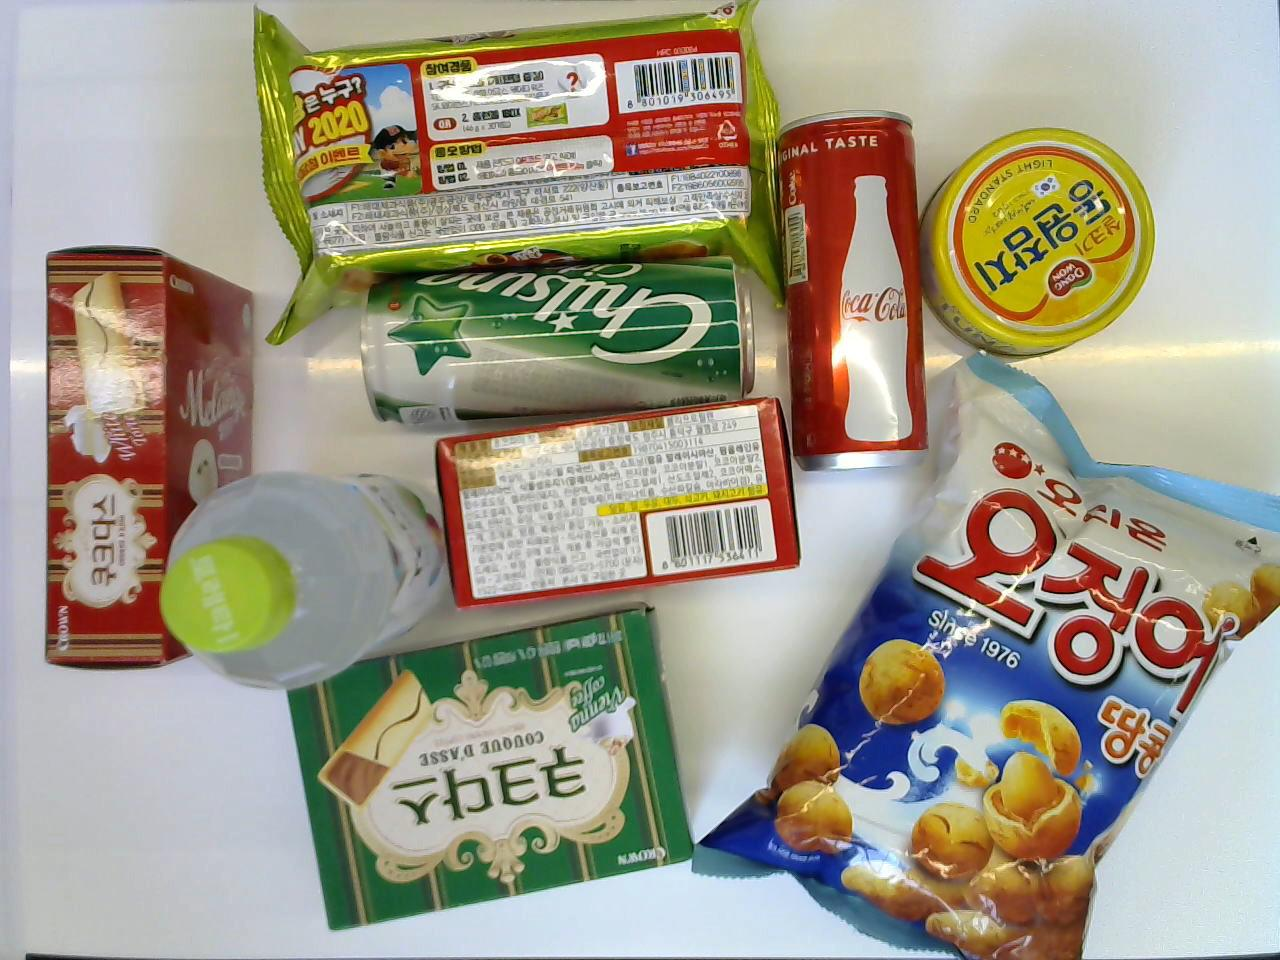chocopie: (430, 398, 803, 614)
cidar: (359, 247, 758, 433)
coke: (765, 104, 936, 480)
couque_coffee: (279, 599, 695, 937)
couque_white: (39, 243, 254, 681)
homerunball: (239, 0, 790, 317)
squid_peanut: (684, 348, 1280, 960)
toreta: (159, 464, 463, 694)
tuna: (917, 117, 1157, 364)
